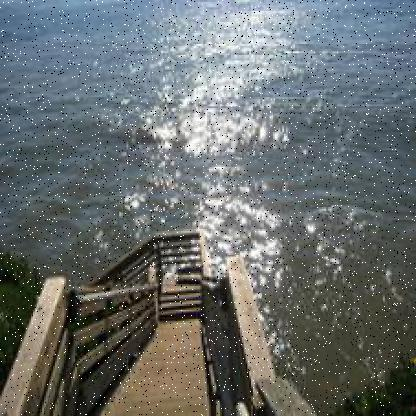stair_down: (99, 342, 220, 413)
